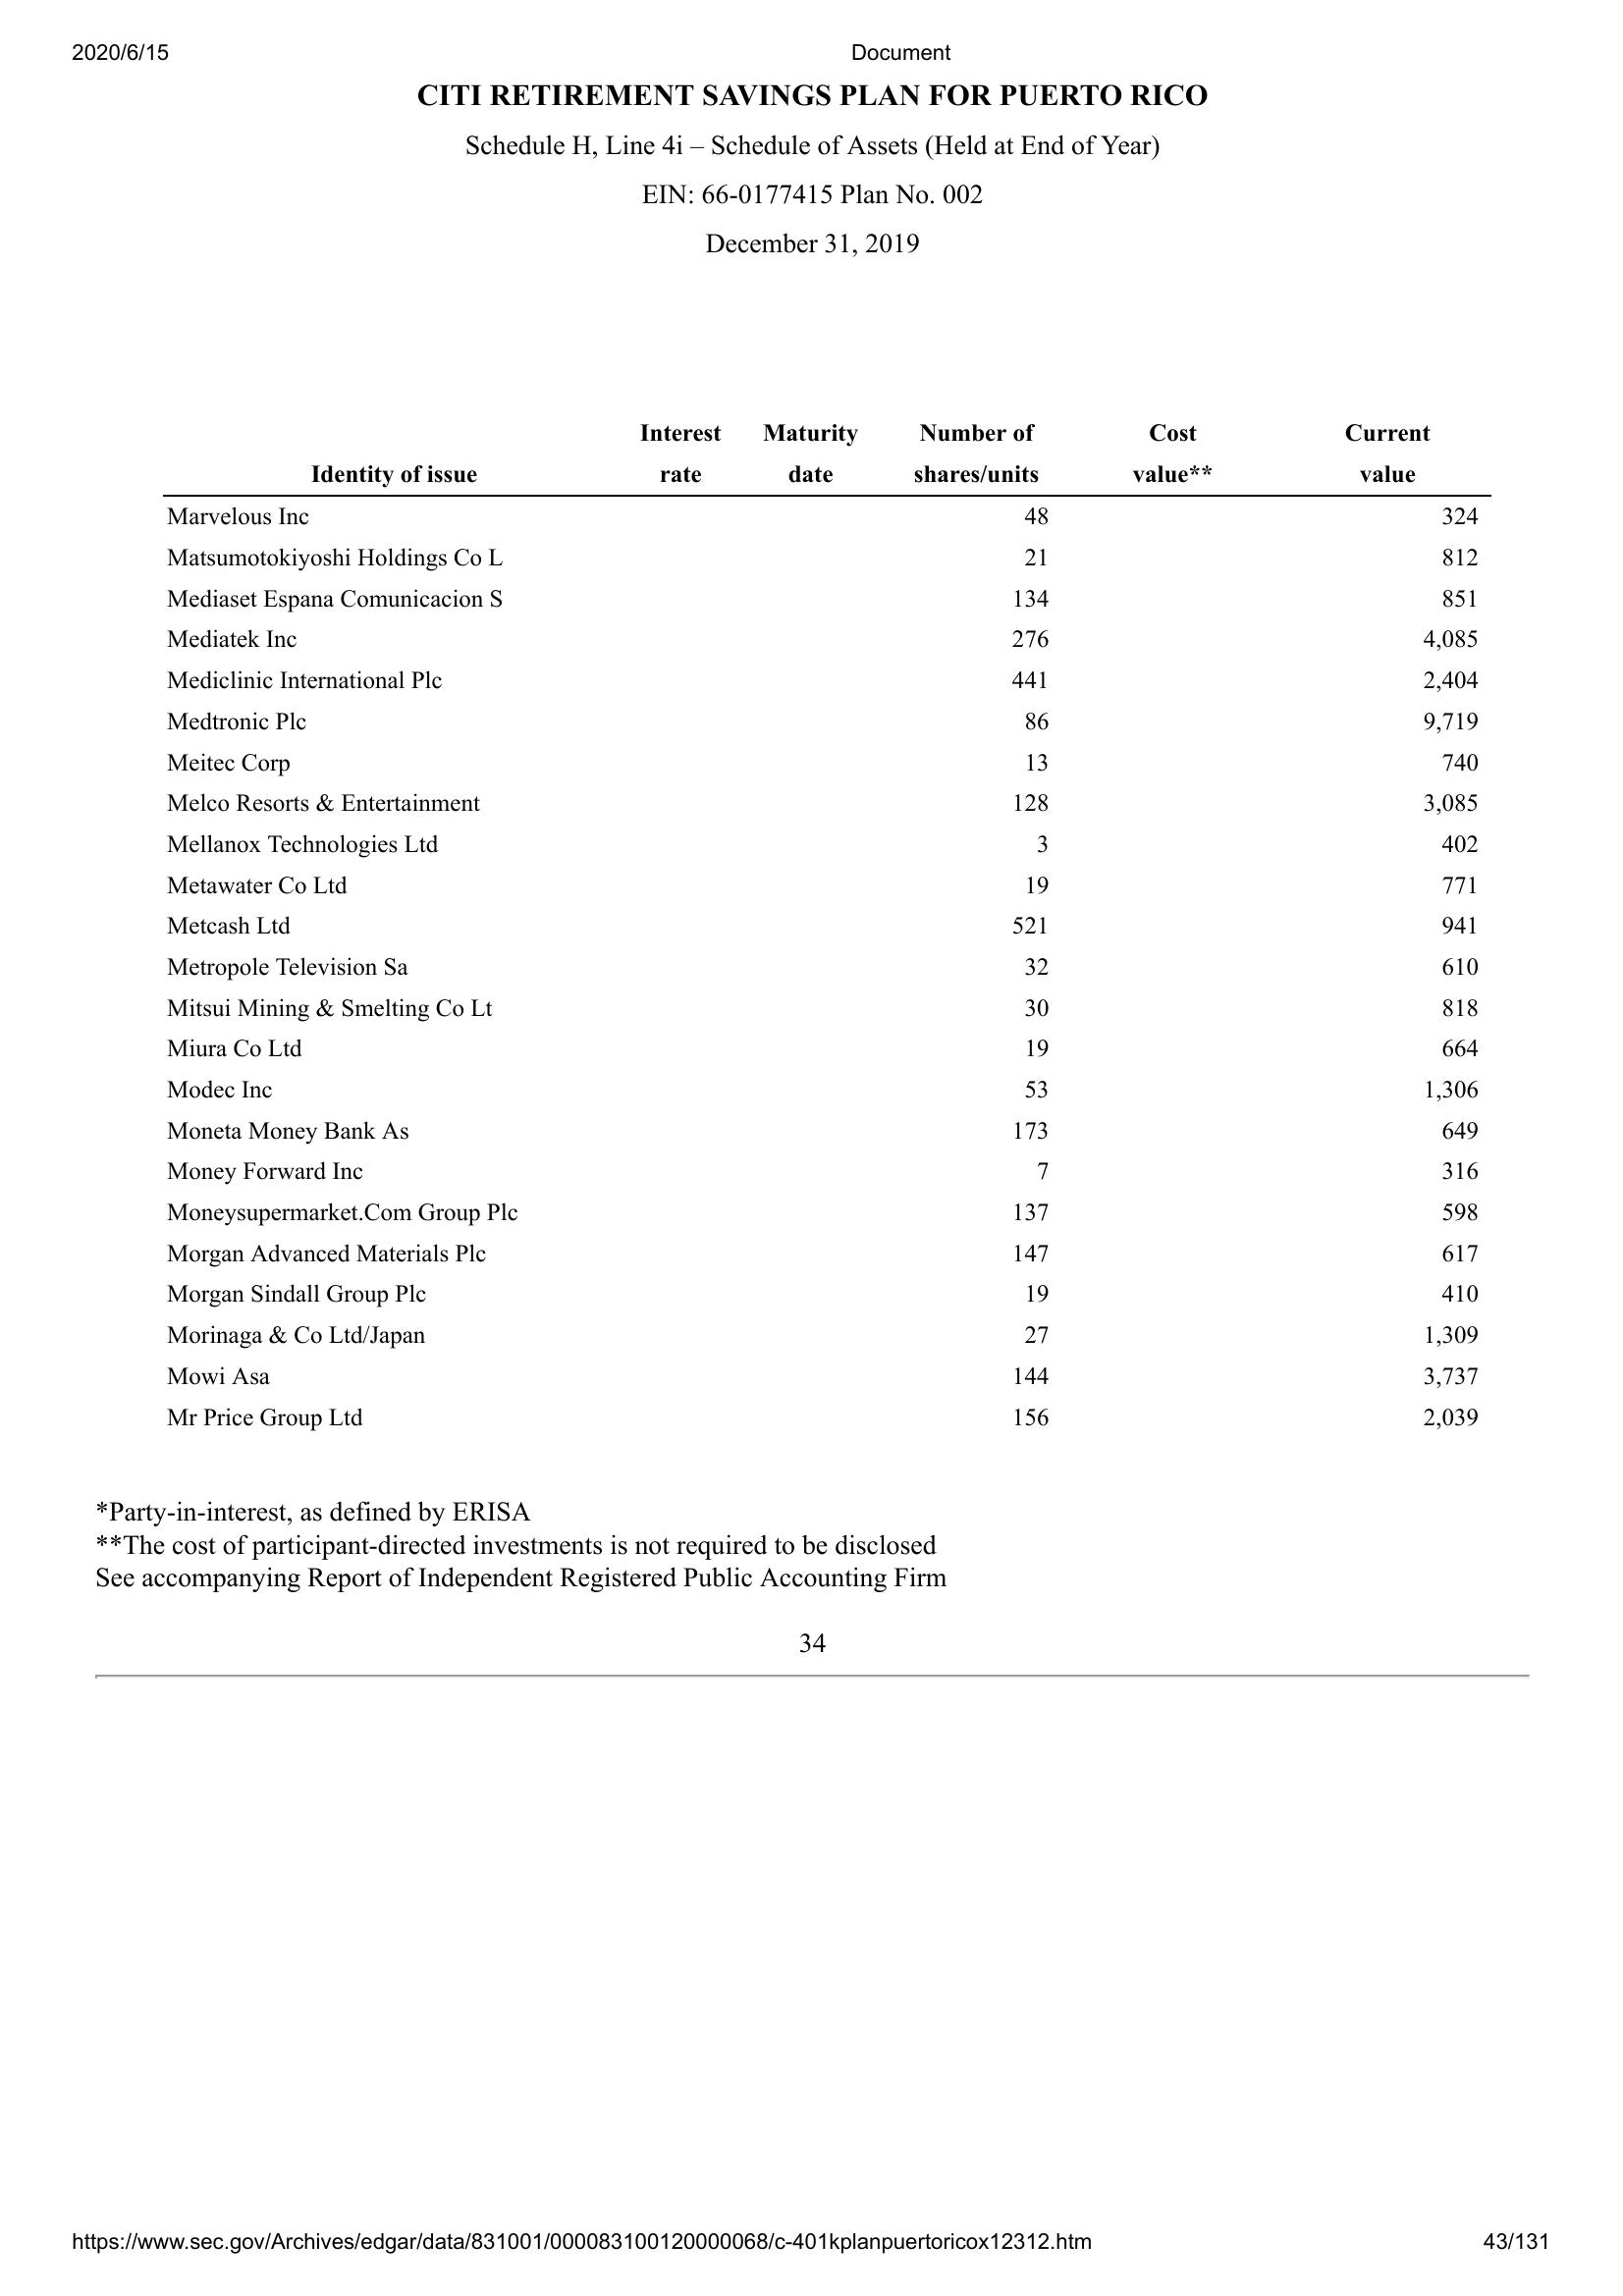table: (160, 411, 1497, 1439)
